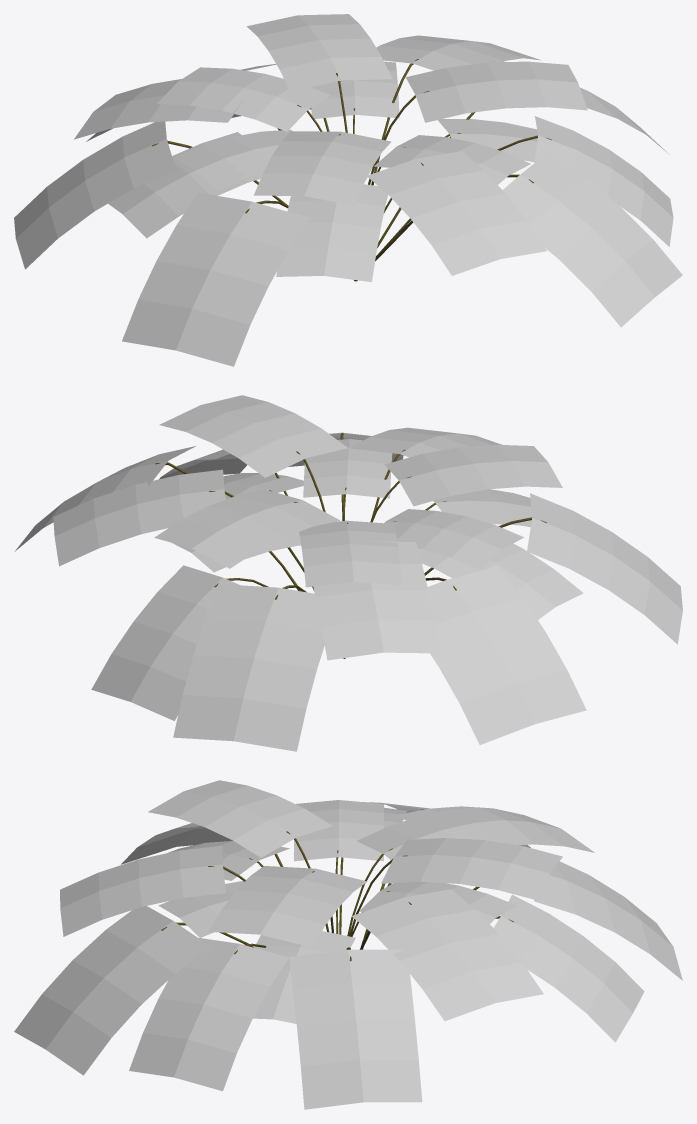
The model's file is Amazonie_Fougere_6.fbx.
The picture shows the model from 3 angles, top to bottom: view 1: azimuth 30°, elevation 25°; view 2: azimuth 150°, elevation 25°; view 3: azimuth 270°, elevation 25°; orthographic projection.
Parts seen in each view (by area): view 1: Plane.016, Plane.015, Plane.006, Plane.017, Plane.003, Plane.002, Plane.011, Plane.005, Plane.014, Plane.000, Plane.010, Plane.009 (+6 smaller); view 2: Plane.018, Plane.017, Plane.019, Plane.016, Plane.009, Plane.008, Plane.003, Plane.002, Plane.005, Plane.000, Plane.001, Plane.010 (+7 smaller); view 3: Plane.013, Plane.015, Plane.014, Plane.008, Plane.019, Plane.006, Plane.003, Plane.002, Plane.005, Plane.018, Plane.000, Plane.001 (+6 smaller).
Part boxes in pixels (x1,y1,x2,y2): Plane.016: [122, 192, 309, 366]; Plane.015: [354, 153, 682, 327]; Plane.006: [368, 151, 546, 275]; Plane.017: [14, 121, 288, 269]; Plane.003: [368, 61, 587, 184]; Plane.002: [247, 14, 392, 132]; Plane.011: [276, 184, 387, 282]; Plane.005: [254, 131, 391, 205]; Plane.014: [376, 116, 673, 256]; Plane.000: [157, 67, 330, 131]; Plane.010: [108, 132, 262, 238]; Plane.009: [74, 79, 282, 139]; Plane.018: [173, 584, 324, 751]; Plane.017: [343, 566, 586, 744]; Plane.019: [91, 565, 268, 720]; Plane.016: [344, 493, 682, 658]; Plane.009: [313, 541, 439, 660]; Plane.008: [53, 469, 313, 590]; Plane.003: [159, 395, 347, 512]; Plane.002: [154, 489, 340, 568]; Plane.005: [370, 444, 562, 522]; Plane.000: [299, 520, 402, 587]; Plane.001: [384, 509, 523, 569]; Plane.010: [418, 543, 583, 619]; Plane.013: [289, 947, 422, 1109]; Plane.015: [14, 906, 253, 1075]; Plane.014: [129, 937, 288, 1091]; Plane.008: [351, 889, 543, 1021]; Plane.019: [493, 894, 644, 1042]; Plane.006: [60, 845, 245, 936]; Plane.003: [208, 866, 367, 947]; Plane.002: [349, 838, 562, 936]; Plane.005: [148, 780, 332, 932]; Plane.018: [473, 861, 682, 980]; Plane.000: [347, 807, 531, 936]; Plane.001: [294, 800, 383, 933].
Size of the model in its own units: 1367 by 424 by 1346.
